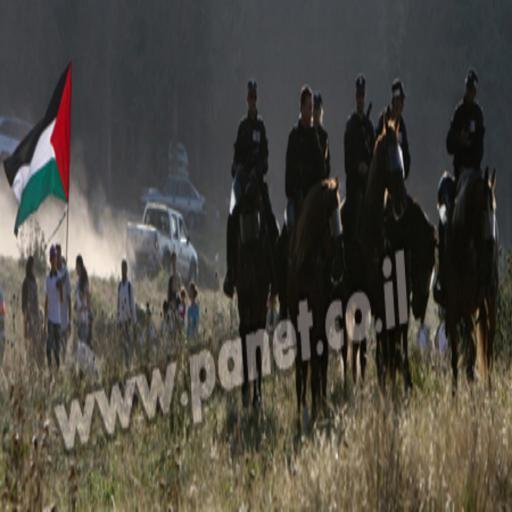horse: (346, 104, 408, 391), (282, 174, 347, 406), (442, 154, 496, 392), (228, 160, 274, 416)
